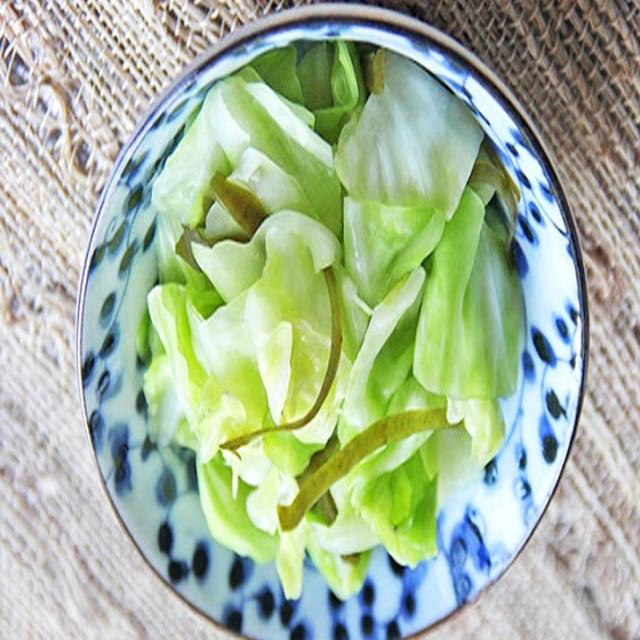bap cai luoc: (141, 41, 524, 599)
